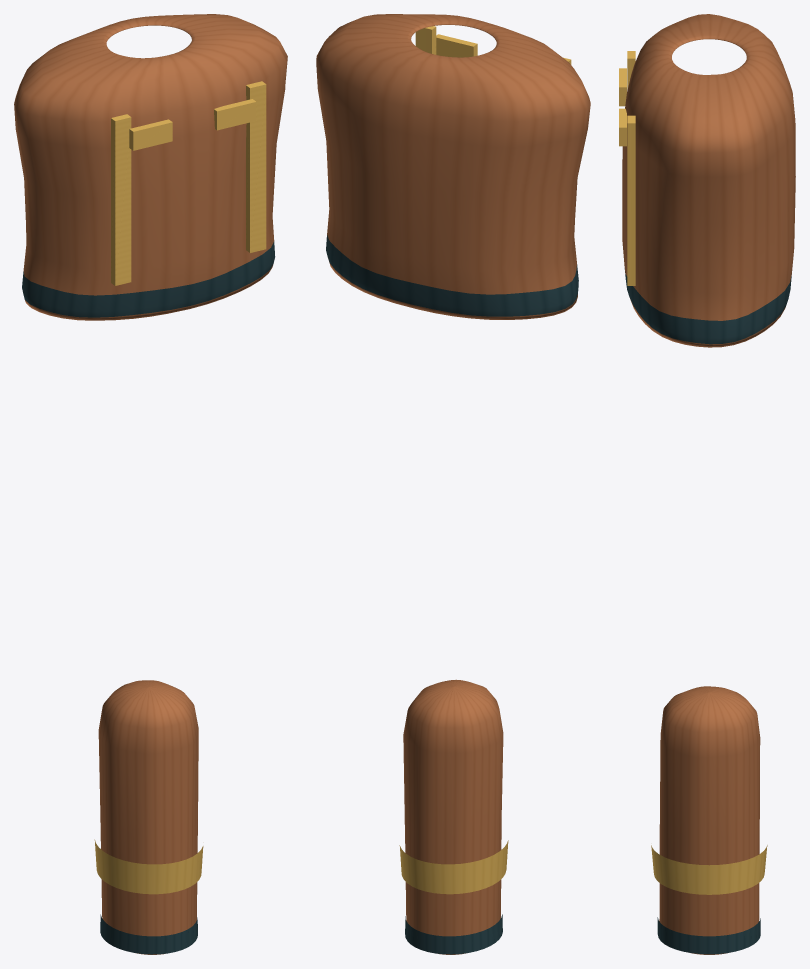
The model's file is signal_racing_jacket.gltf.
3 views of the same model, side by side, from view 1: azimuth 30°, elevation 25°; view 2: azimuth 150°, elevation 25°; view 3: azimuth 270°, elevation 25° (orthographic).
Parts seen in each view (by area): view 1: Torso, SleeveL; view 2: Torso, SleeveL; view 3: Torso, SleeveL.
Boxes of the visible parts, left/top/right/bottom form: Torso: left=14, top=14, right=287, bottom=320; SleeveL: left=94, top=680, right=203, bottom=954; Torso: left=316, top=14, right=590, bottom=319; SleeveL: left=399, top=679, right=508, bottom=954; Torso: left=619, top=14, right=795, bottom=347; SleeveL: left=651, top=686, right=767, bottom=954.
Size of the model in its own units: 0.5276 by 1.74 by 0.3156.
Materials: 3 (3 with a texture image).
